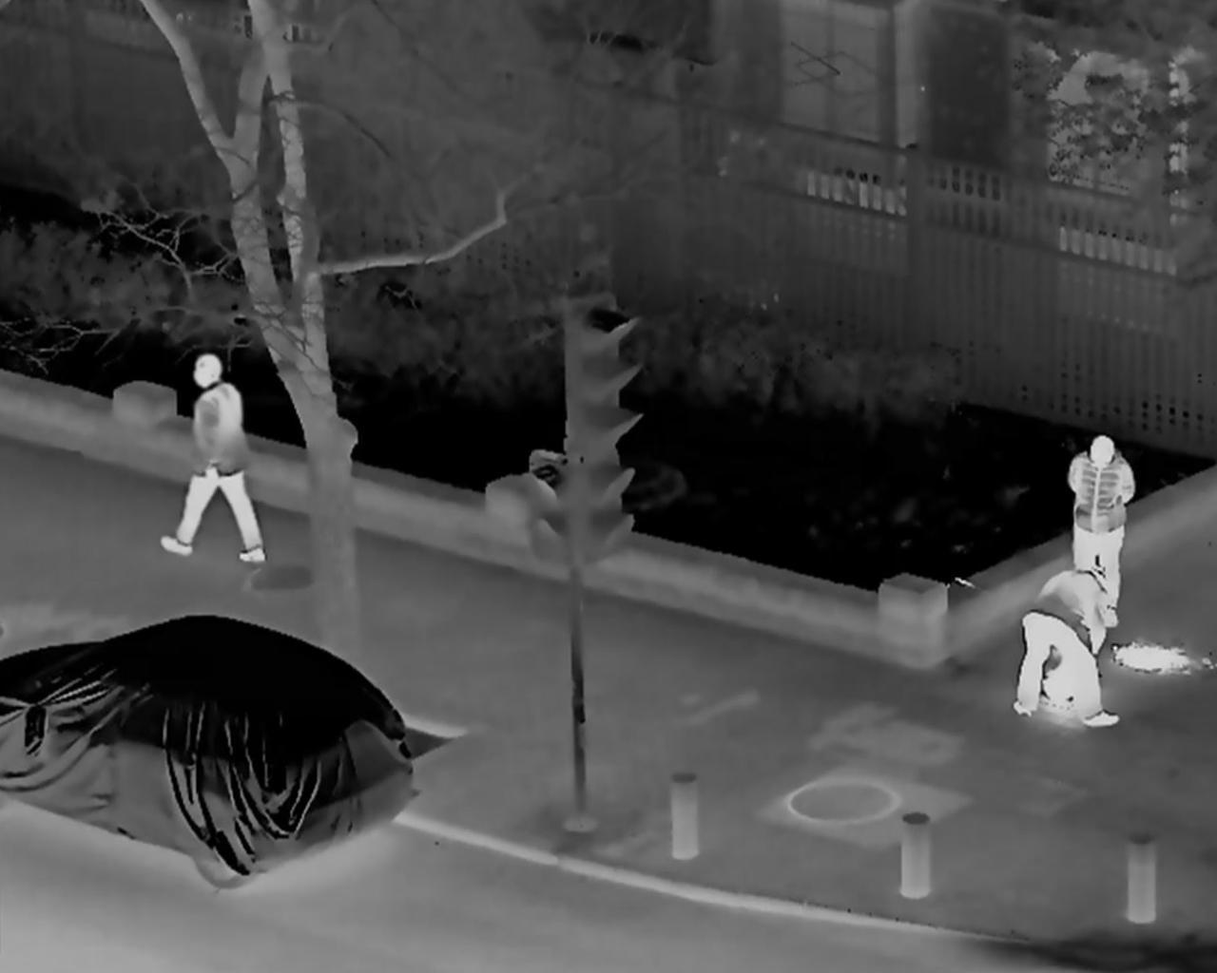person: (162, 356, 269, 571), (1014, 568, 1119, 732), (1059, 437, 1138, 632)
